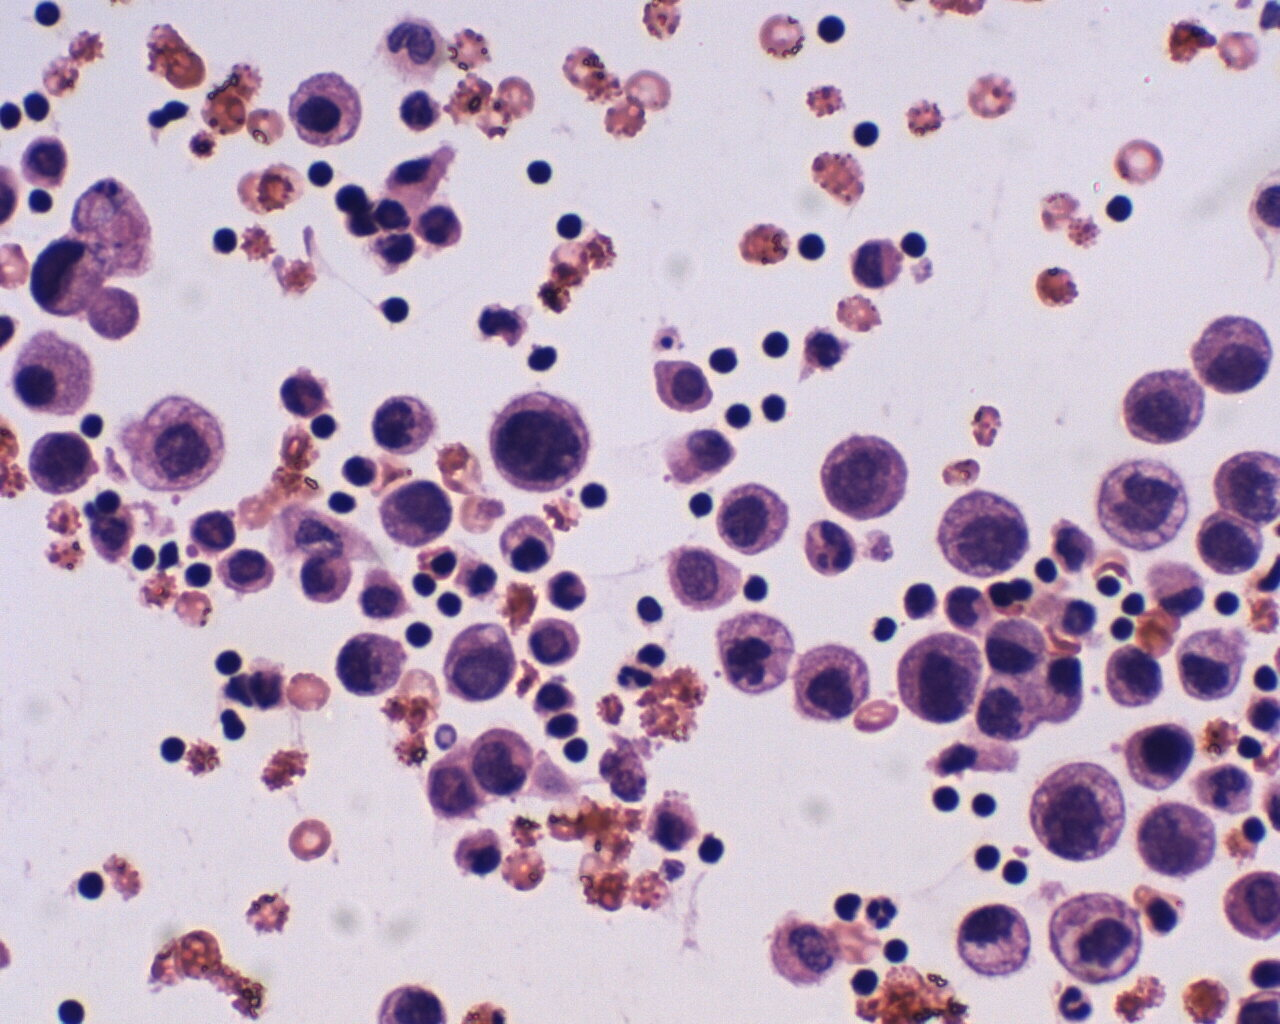ab: (1019, 759, 1130, 865), (486, 389, 594, 495), (1098, 453, 1189, 555), (1193, 301, 1278, 401), (895, 630, 982, 726), (818, 430, 909, 521), (938, 491, 1030, 580), (1127, 800, 1218, 882), (709, 614, 798, 696), (794, 634, 871, 724), (714, 479, 796, 559), (435, 623, 512, 701), (332, 627, 416, 699), (1213, 441, 1280, 527), (21, 429, 99, 501), (1127, 716, 1196, 791), (1191, 508, 1266, 576)
lymph: (811, 9, 856, 51), (200, 222, 243, 263), (1095, 187, 1136, 230), (791, 227, 832, 263), (516, 154, 557, 188), (757, 329, 796, 363)
meso: (289, 67, 369, 147), (651, 352, 717, 411)
neutro: (1054, 979, 1100, 1024), (616, 659, 655, 694), (864, 895, 900, 932)
